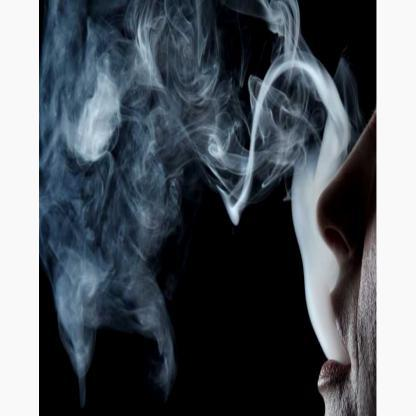smoke: (42, 1, 200, 390), (201, 58, 322, 217), (264, 0, 303, 59)
